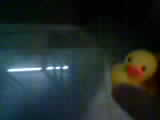duck: (99, 34, 154, 91)
